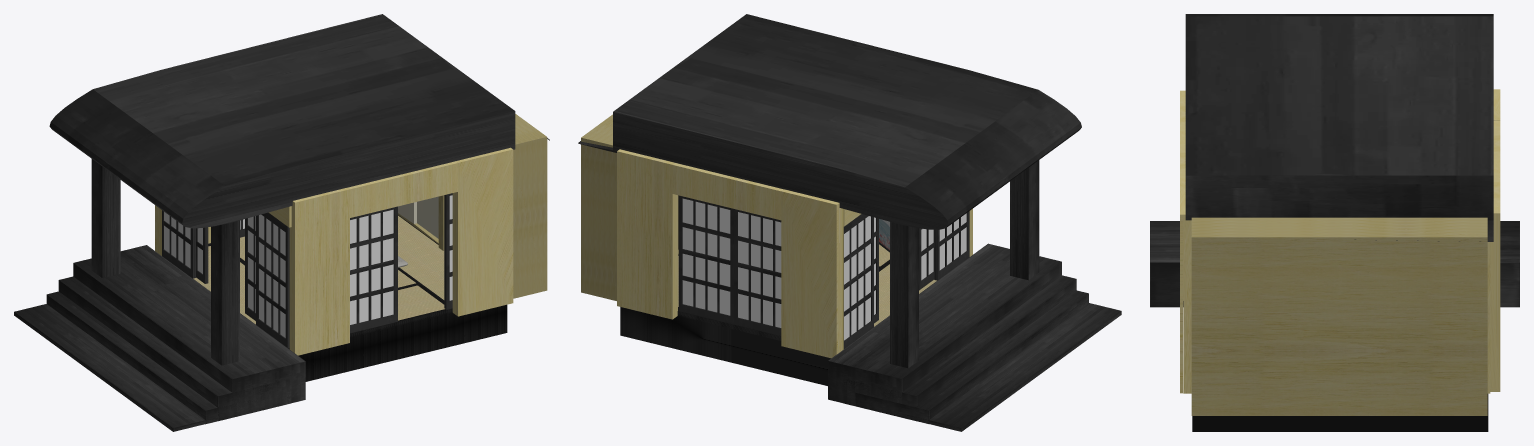
File: anime-tatami-room.glb
3 views of the same model, side by side, from view 1: azimuth 30°, elevation 25°; view 2: azimuth 150°, elevation 25°; view 3: azimuth 270°, elevation 25° (orthographic). The views are drawn at different scales.
Visible parts, largest first — view 1: KayuShoji, Dinding, Screen, PembatasTatami, KayuRak, Tatamilantai, material; view 2: KayuShoji, Dinding, Screen, PembatasTatami, KayuRak, Tatamilantai; view 3: KayuShoji, KayuRak, Dinding, PembatasTatami.
Boxes of the visible parts, bbox=[...] form: KayuShoji: bbox=[14, 14, 549, 431]; Dinding: bbox=[155, 147, 513, 355]; Screen: bbox=[164, 195, 452, 337]; PembatasTatami: bbox=[194, 215, 507, 381]; KayuRak: bbox=[398, 114, 547, 298]; Tatamilantai: bbox=[193, 215, 444, 324]; material: bbox=[398, 196, 438, 238]; KayuShoji: bbox=[578, 14, 1121, 431]; Dinding: bbox=[617, 149, 972, 358]; Screen: bbox=[682, 198, 966, 340]; PembatasTatami: bbox=[620, 255, 930, 385]; KayuRak: bbox=[581, 114, 678, 300]; Tatamilantai: bbox=[678, 244, 936, 326]; KayuShoji: bbox=[1150, 14, 1519, 307]; KayuRak: bbox=[1191, 217, 1487, 415]; Dinding: bbox=[1180, 89, 1500, 393]; PembatasTatami: bbox=[1192, 394, 1488, 431].
Size of the model in its own units: 21.34 by 11.6 by 15.
Materials: 21 (18 with a texture image).
